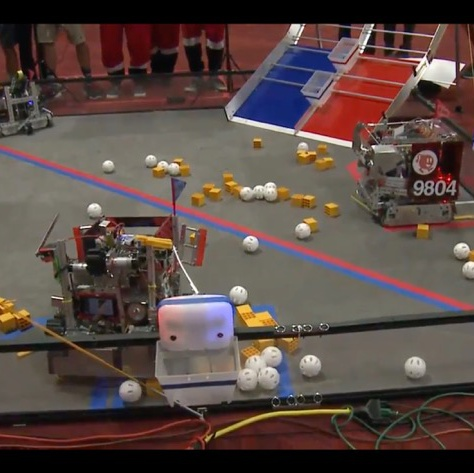robot: (32, 178, 199, 373), (348, 98, 468, 230), (1, 70, 56, 140)
